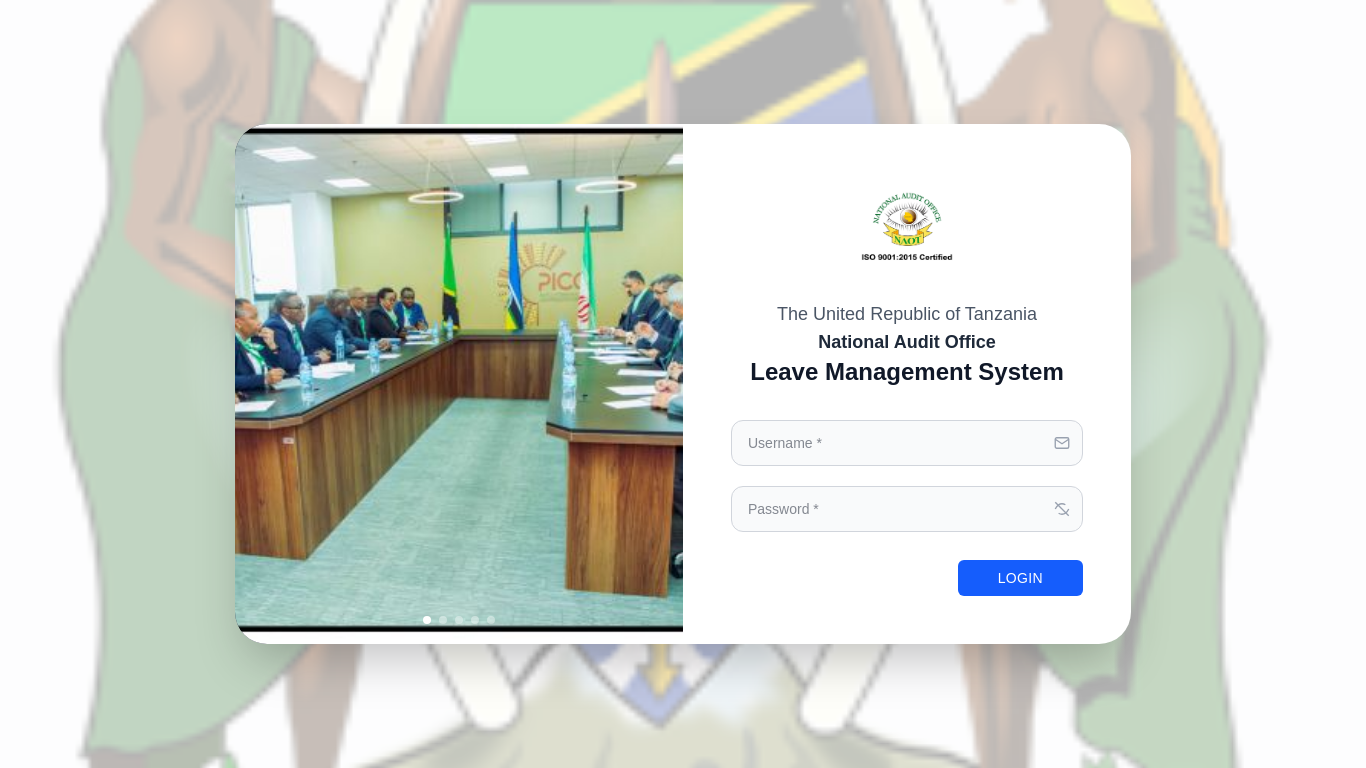
Test: LoginPage › allows going back to the username/password step from the MFA step
Type "sysadmin1" into the field labelled "Username".
click(907, 443); type("sysadmin1")  # box [731,420,1083,466]
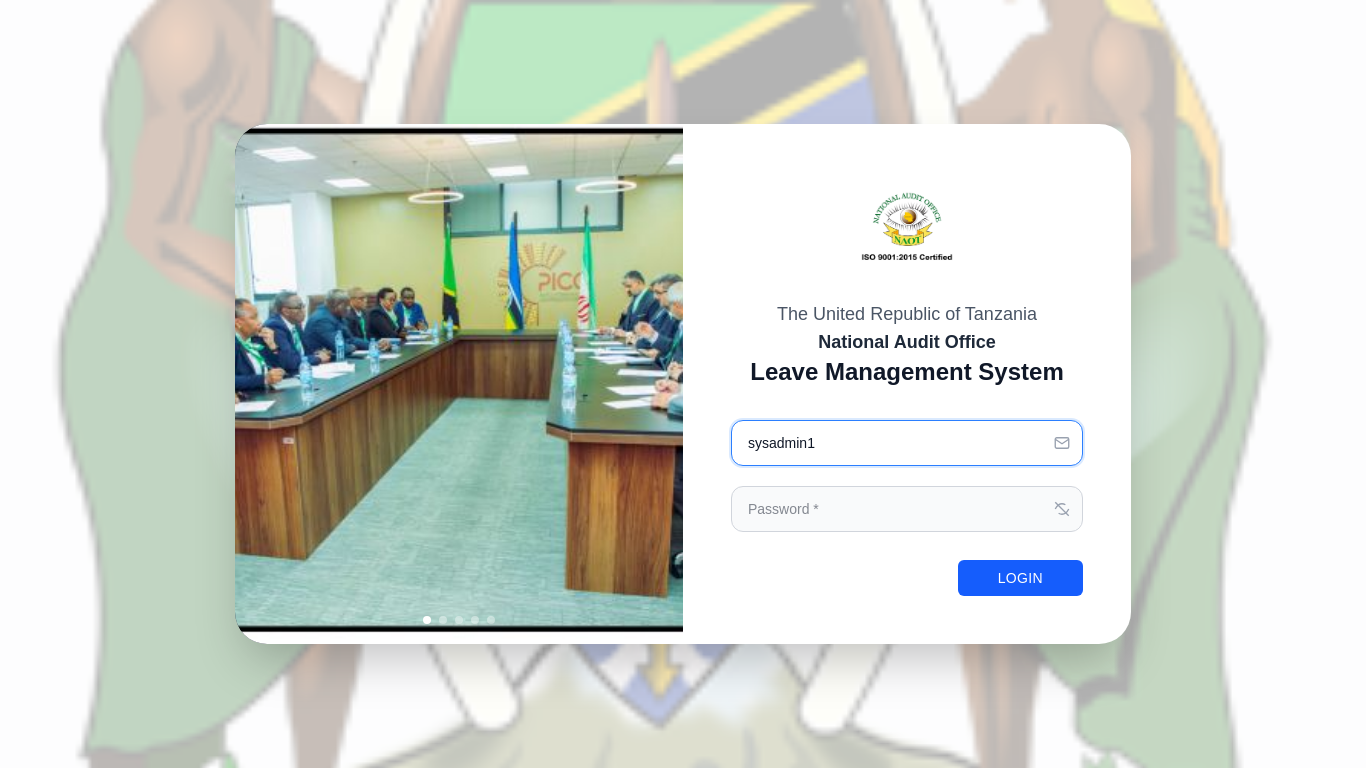
Type "TestPass123!" into the password field labelled "Password".
click(907, 509); type("TestPass123!")  # box [731,486,1083,532]
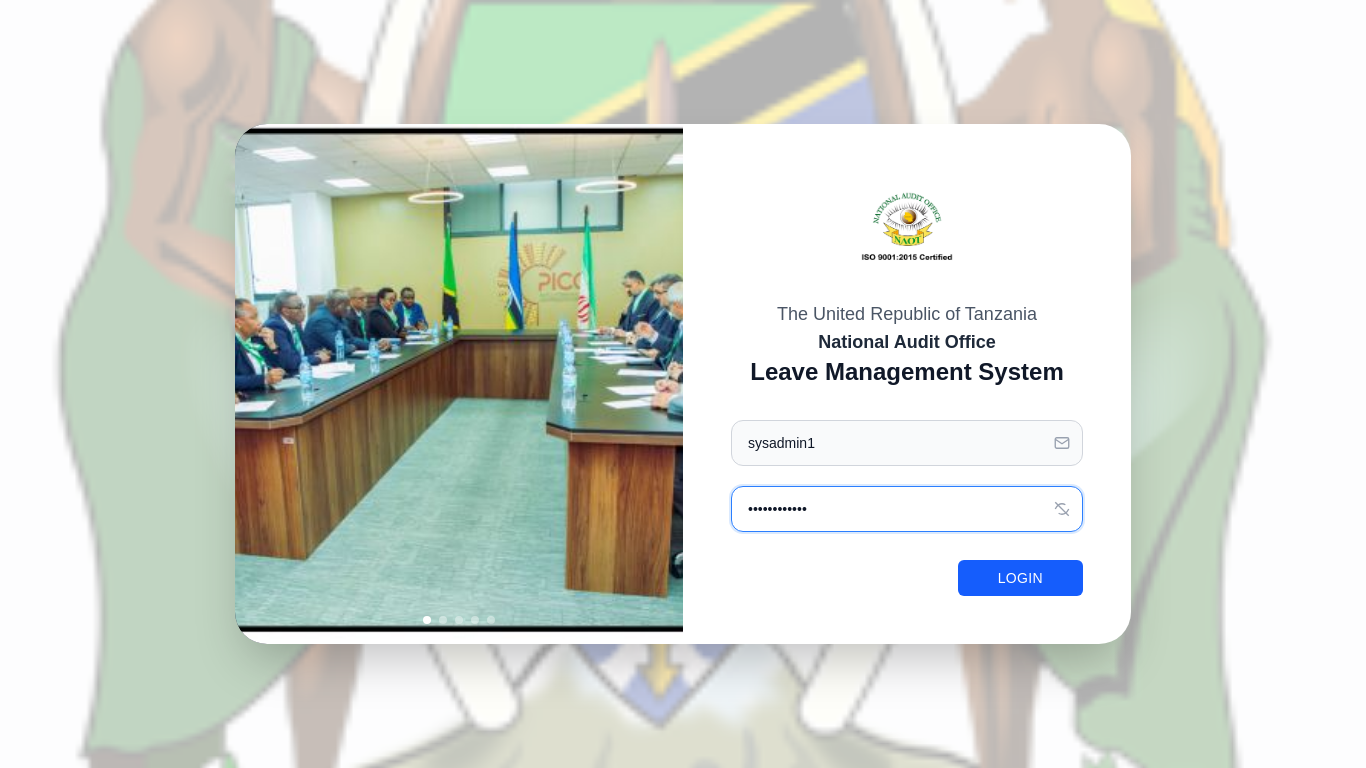
Click the button "LOGIN".
click(1020, 578)  # box [958,560,1083,596]
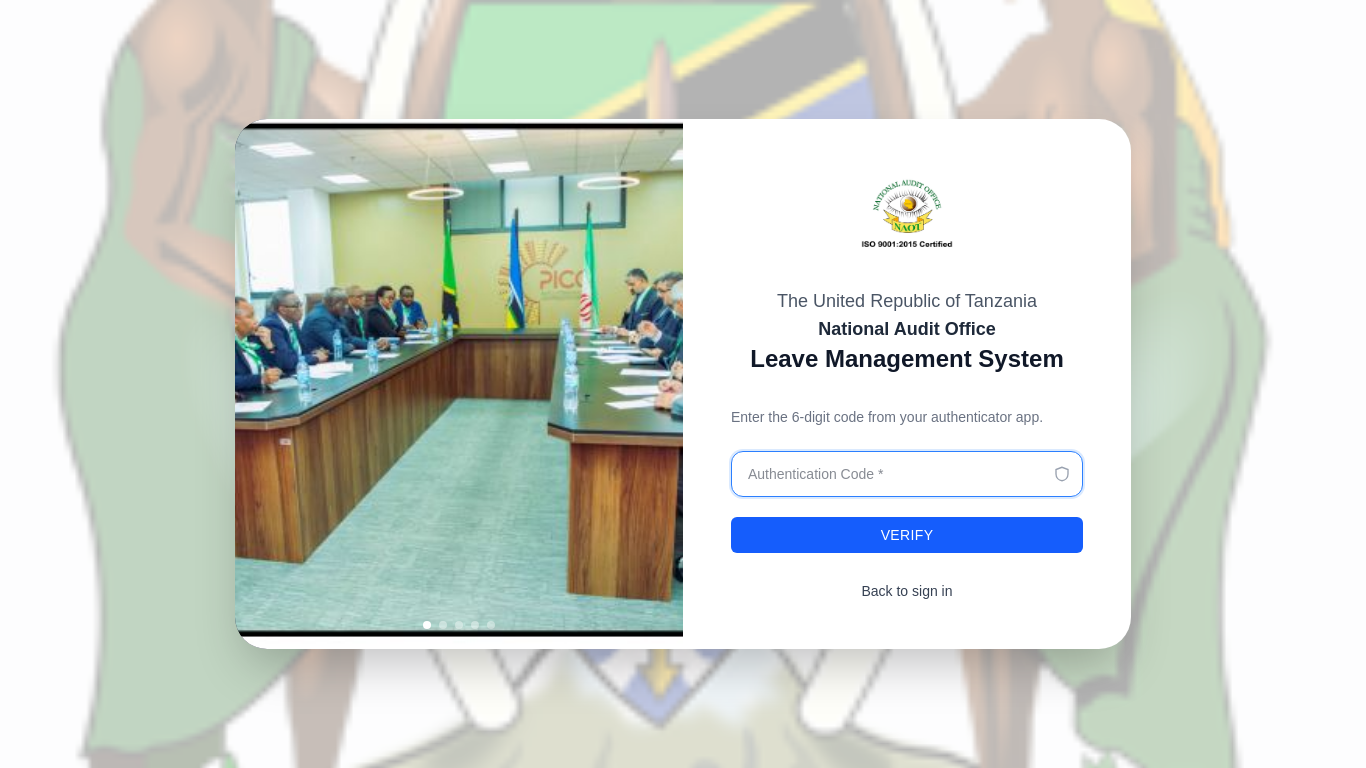
Expected: the field labelled "Authentication Code" is shown, [731,451,1083,497]
Click the button "Back to sign in".
click(907, 591)  # box [731,573,1083,609]
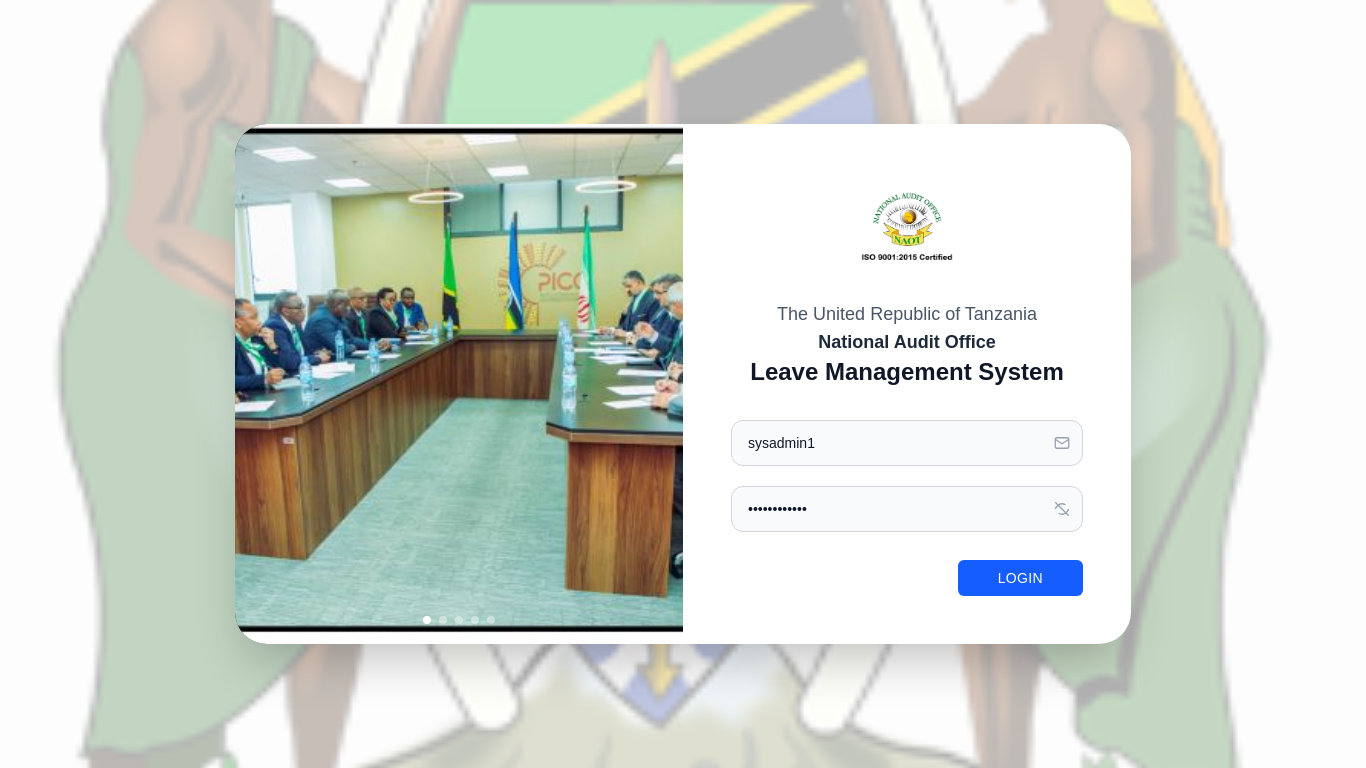
Expected: the field named "Username" is shown, [731,420,1083,466]
